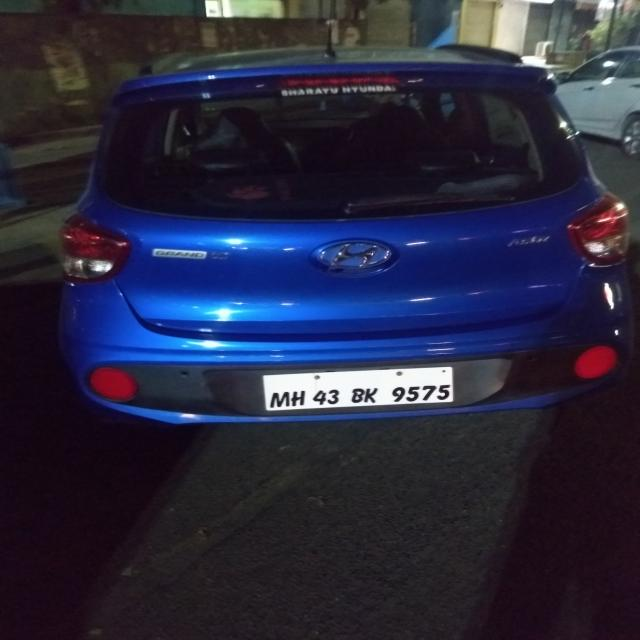Number-Plate: (266, 374, 462, 409)
